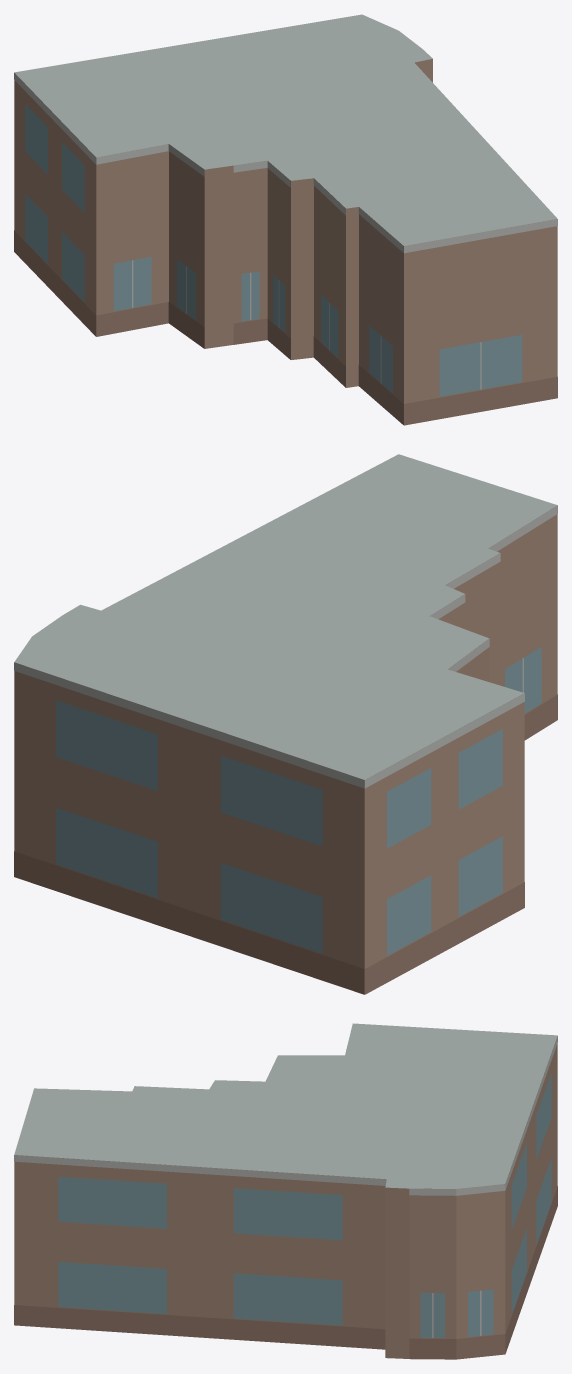
Rendered from survey-upis-32565090.glb.
The picture shows the model from 3 angles, top to bottom: view 1: azimuth 30°, elevation 25°; view 2: azimuth 150°, elevation 25°; view 3: azimuth 270°, elevation 25°; orthographic projection. The views are drawn at different scales.
Visible parts, largest first — view 1: survey-upis-32565090.tmp; view 2: survey-upis-32565090.tmp; view 3: survey-upis-32565090.tmp.
Boxes of the visible parts, <box> form: survey-upis-32565090.tmp: <box>14,14,557,425</box>; survey-upis-32565090.tmp: <box>14,454,557,994</box>; survey-upis-32565090.tmp: <box>14,1023,557,1359</box>.
Bounding box in the file's own units: 12.72 × 6.1 × 17.64.
